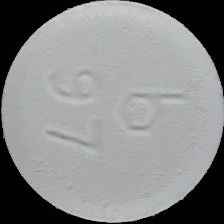0555-0097: (0, 0, 224, 224)
